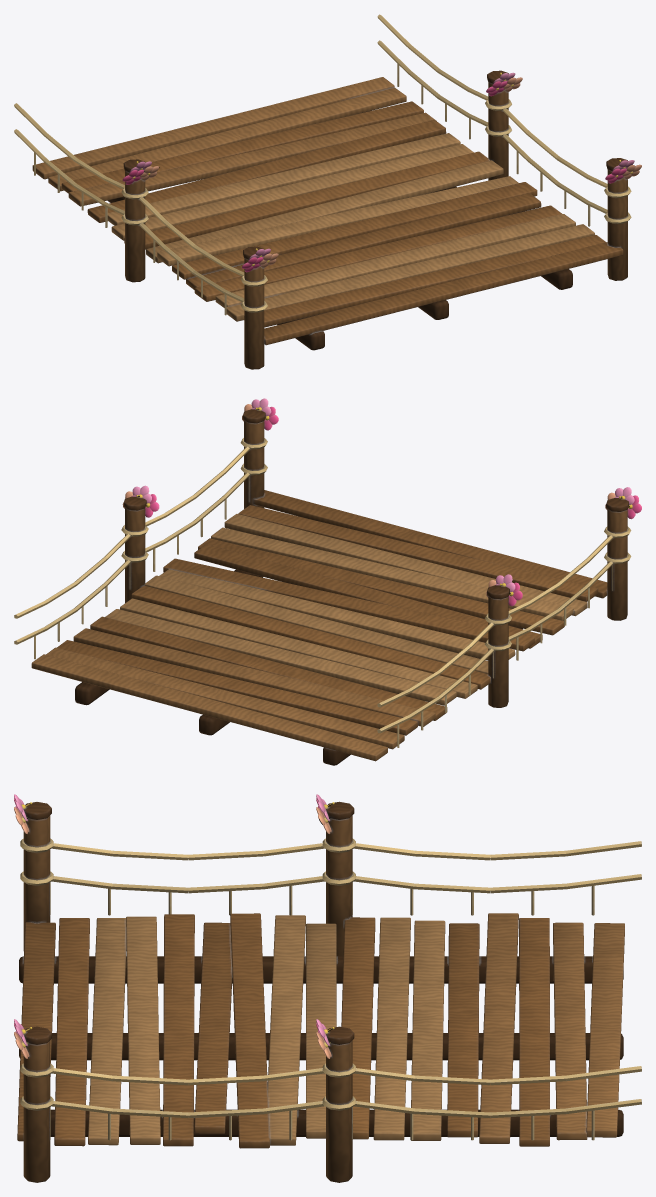
The model's file is tf_bridge_segment.glb.
The picture shows the model from 3 angles, top to bottom: view 1: azimuth 30°, elevation 25°; view 2: azimuth 150°, elevation 25°; view 3: azimuth 270°, elevation 25°; orthographic projection. The views are drawn at different scales.
Visible parts, largest first — view 1: tf_bridge_segment; view 2: tf_bridge_segment; view 3: tf_bridge_segment.
Part boxes in pixels (x1,y1,x2,y2): tf_bridge_segment: (14, 14, 641, 369); tf_bridge_segment: (14, 398, 641, 765); tf_bridge_segment: (14, 794, 641, 1182).
Size of the model in its own units: 9.66 by 2.87 by 10.39.
Materials: 10 (10 with a texture image).
